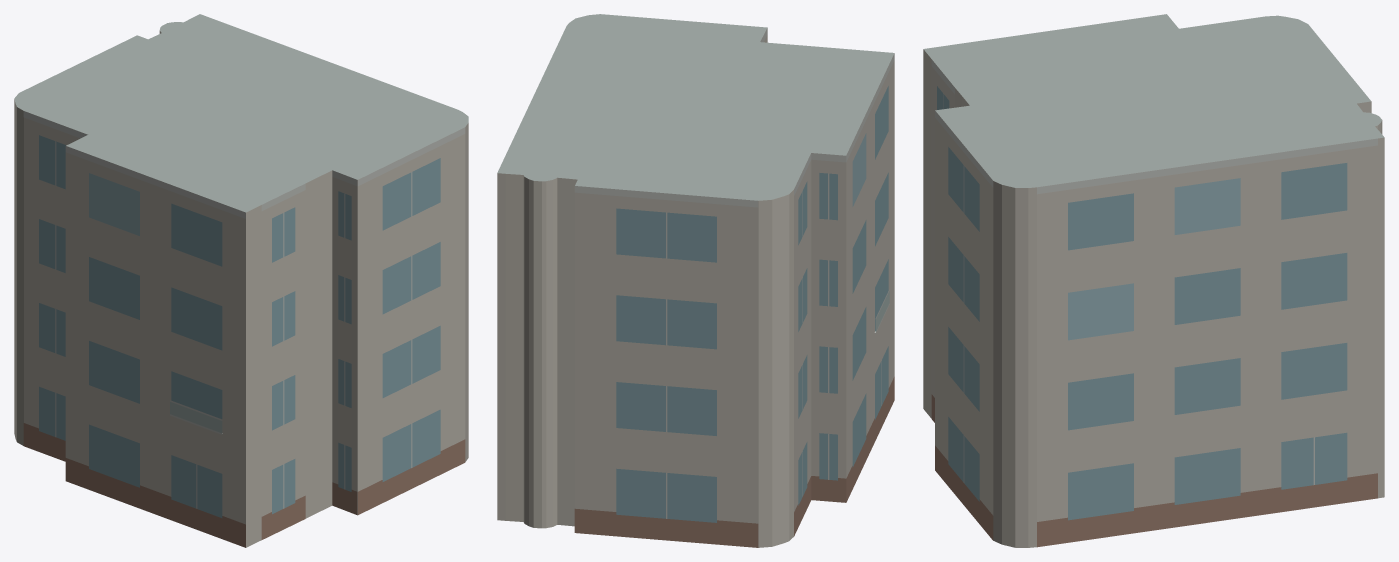
The model's file is survey-upis-32864355.glb.
3 views of the same model, side by side, from view 1: azimuth 30°, elevation 25°; view 2: azimuth 150°, elevation 25°; view 3: azimuth 270°, elevation 25° (orthographic). The views are drawn at different scales.
Parts seen in each view (by area): view 1: survey-upis-32864355.tmp; view 2: survey-upis-32864355.tmp; view 3: survey-upis-32864355.tmp.
Part boxes in pixels (x1,y1,x2,y2): survey-upis-32864355.tmp: (14, 14, 468, 547); survey-upis-32864355.tmp: (497, 14, 894, 547); survey-upis-32864355.tmp: (923, 14, 1384, 547).
Size of the model in its own units: 13.02 by 12.55 by 14.58.
